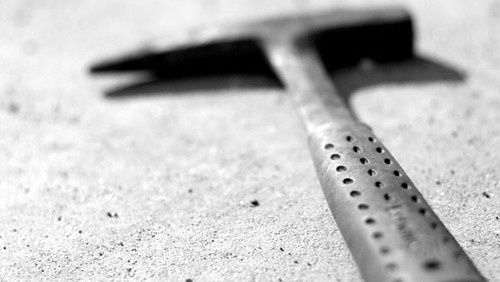hammer: (81, 4, 483, 281)
